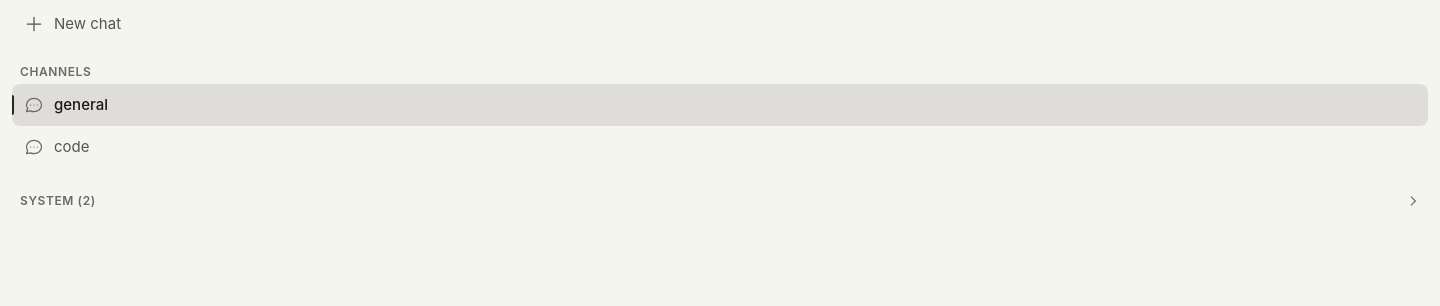
it: ChannelList › expands system section on click to show readable names
What coordinates should you click on to do the following:
click the button "System (2)"
I would click on:
 (51, 200)
Its box is [12, 184, 1428, 216].
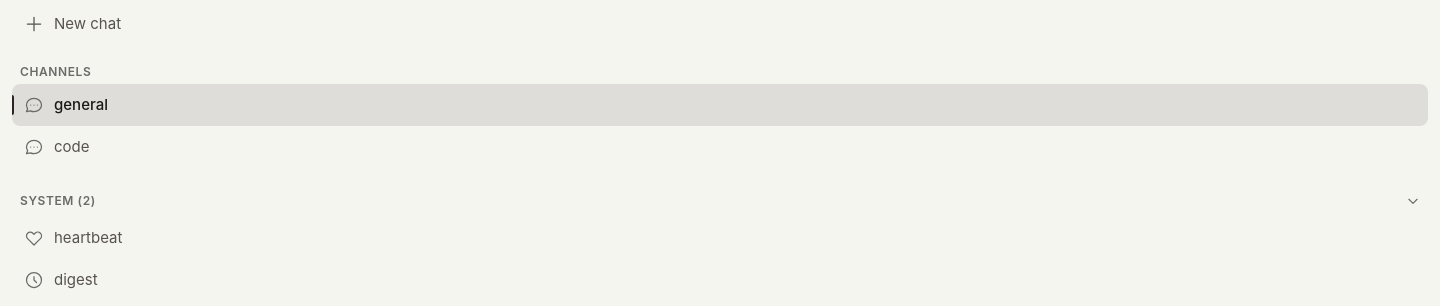
expect the text "heartbeat" is shown: met, box [54, 228, 122, 246]
expect the text "digest" is shown: met, box [54, 270, 98, 289]
